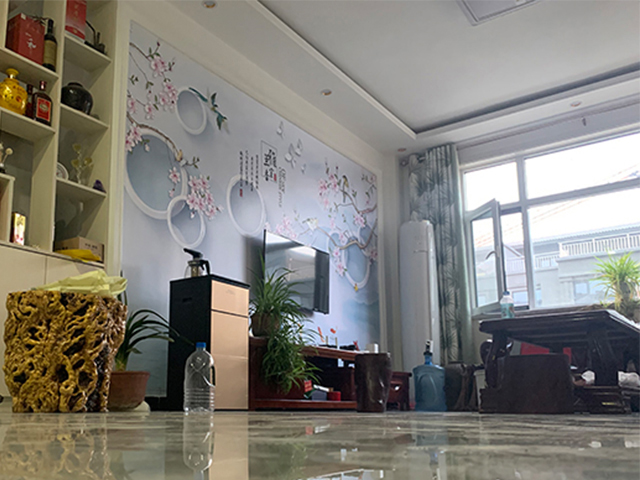cabinet: (249, 336, 412, 412)
stool: (355, 352, 392, 413), (454, 361, 481, 412)
table: (477, 310, 640, 415)
